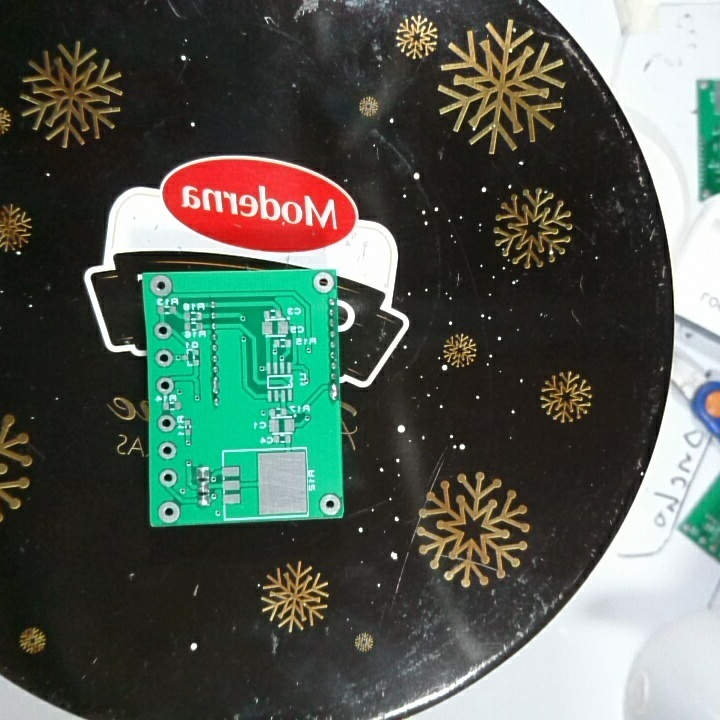F: (148, 274, 174, 299), (317, 492, 344, 516), (156, 500, 182, 524), (310, 271, 334, 295), (157, 440, 179, 463), (156, 468, 179, 489), (151, 320, 174, 341), (153, 347, 174, 369), (154, 376, 175, 396), (155, 415, 177, 434)
P: (326, 380, 339, 405), (209, 375, 222, 396)
